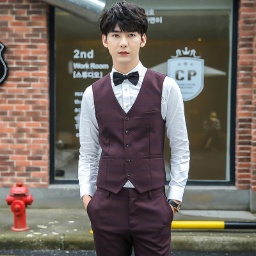face: (97, 2, 151, 62)
